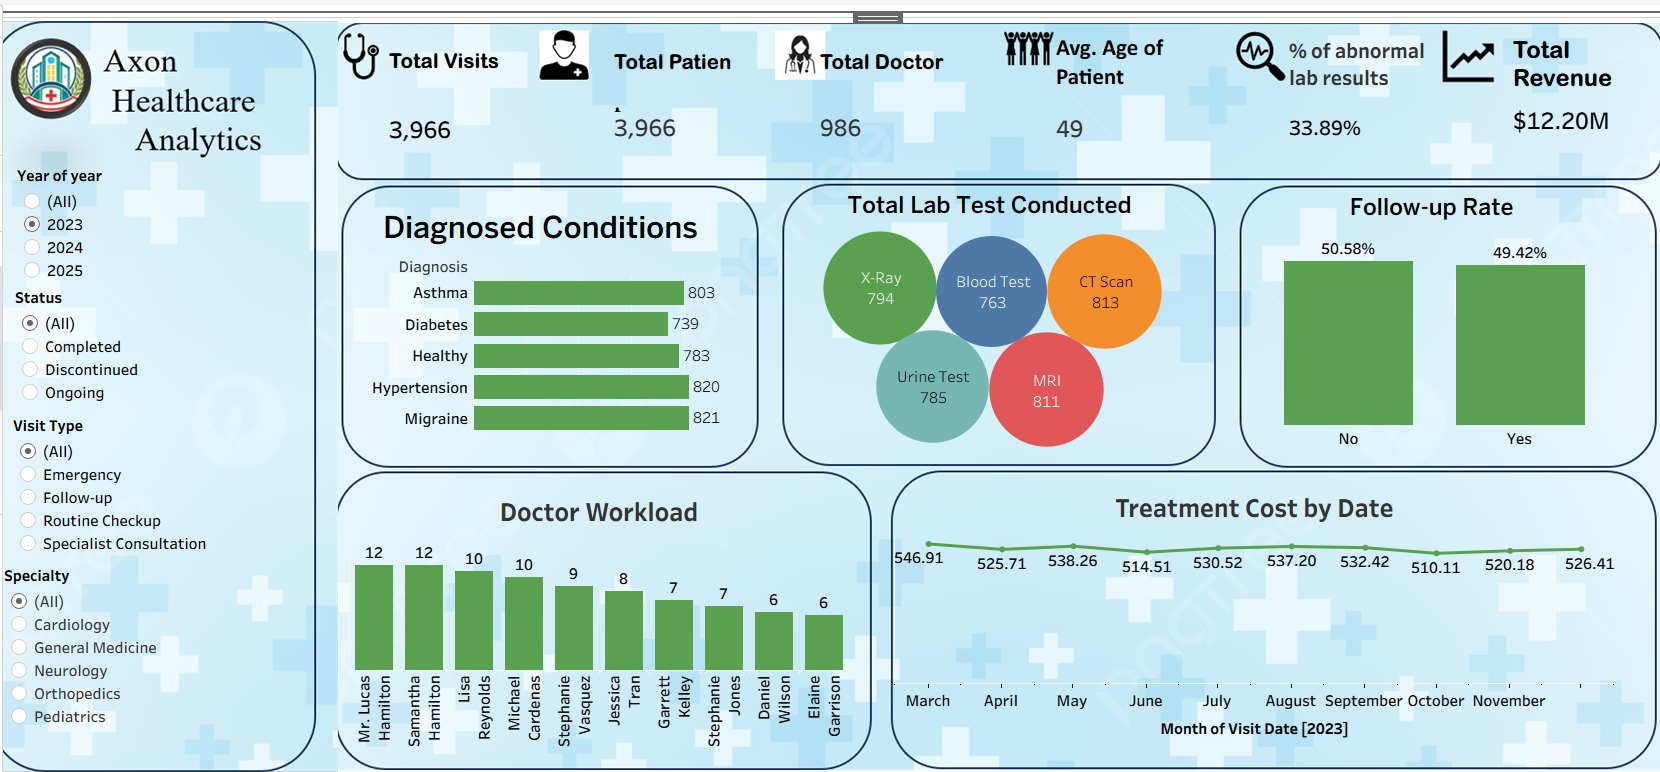

Layout of this report page (visuals, bound fields, positions):
{"tool":"tableau","page":{"name":"Dashboard 2","canvas":[1000,1000],"units":"permille","ordinal":0},"visuals":[{"type":"image","box":[4.4,10.3,991.3,979.5]},{"type":"image","param":"Image/Screenshot 2026-03-04 130648.png","box":[6.4,20.5,201.7,962.8]},{"type":"image","param":"Image/Screenshot 2026-03-04 131654.png","box":[206,23.1,732.6,957.7]},{"type":"worksheet","title":"Sheet 2","mark":"Automatic","box":[354.7,23.1,71.5,148.7]},{"type":"worksheet","title":"Sheet 4","mark":"Automatic","box":[595,30.8,84.2,161.5]},{"type":"worksheet","title":"Sheet 11","mark":"Automatic","box":[721.7,34.6,85.3,157.7]},{"type":"worksheet","title":"Sheet 5","mark":"Automatic","box":[843.5,34.6,104.9,135.9]},{"type":"worksheet","title":"Sheet 1","mark":"Automatic","box":[232.4,51.3,79.9,165.4]},{"type":"worksheet","title":"Sheet 3","mark":"Automatic","box":[466.9,52.6,95.3,157.7]},{"type":"filter","title":"Sheet 10","param":"[federated.1peiui60d31iv01h50fkc1fzq2ho].[yr:Calculation_0959092425551878:ok]","box":[32.6,205.1,141.8,153.8]},{"type":"worksheet","title":"Sheet 7","mark":"Circle","box":[459.2,233.3,207.1,333.3]},{"type":"worksheet","title":"Sheet 8","mark":"Automatic","rows":["Visit ID"],"cols":["Follow Up Required"],"box":[709.8,235.9,186.4,333.3]},{"type":"worksheet","title":"Sheet 6","mark":"Automatic","rows":["Diagnosis"],"cols":["Diagnosis Code"],"box":[215.2,255.1,207.6,294.9]},{"type":"filter","title":"Sheet 8","param":"[federated.1peiui60d31iv01h50fkc1fzq2ho].[none:Status:nk]","box":[31.5,361.5,131,153.8]},{"type":"filter","title":"Sheet 8","param":"[federated.1peiui60d31iv01h50fkc1fzq2ho].[none:Visit Type:nk]","box":[30.4,525.6,141.3,183.3]},{"type":"worksheet","title":"Sheet 10","mark":"Automatic","rows":["Treatment Cost"],"cols":["Visit Date"],"box":[509.3,616.7,391.7,333.3]},{"type":"worksheet","title":"Sheet 9","mark":"Automatic","cols":["Doctor Name"],"box":[212.8,621.8,271.6,333.3]},{"type":"filter","title":"Sheet 9","param":"[federated.1peiui60d31iv01h50fkc1fzq2ho].[none:Specialty:nk]","box":[25.4,718,157.8,212.8]}]}

Visuals, with their boxes on the dashboard's canvas, which has no fixed pixel size, in thousandths of its width and height (x1, y1, x2, y2). These are canvas units, not pixel positions in the 1660x772 screenshot, which may show the page scaled, cropped or inside an application window:
image: detection(4, 10, 996, 990)
image: detection(6, 20, 208, 983)
image: detection(206, 23, 939, 981)
"Sheet 2" worksheet: detection(355, 23, 426, 172)
"Sheet 4" worksheet: detection(595, 31, 679, 192)
"Sheet 11" worksheet: detection(722, 35, 807, 192)
"Sheet 5" worksheet: detection(844, 35, 948, 170)
"Sheet 1" worksheet: detection(232, 51, 312, 217)
"Sheet 3" worksheet: detection(467, 53, 562, 210)
"Sheet 10" filter: detection(33, 205, 174, 359)
"Sheet 7" worksheet (Circle marks): detection(459, 233, 666, 567)
"Sheet 8" worksheet: detection(710, 236, 896, 569)
"Sheet 6" worksheet: detection(215, 255, 423, 550)
"Sheet 8" filter: detection(32, 362, 162, 515)
"Sheet 8" filter: detection(30, 526, 172, 709)
"Sheet 10" worksheet: detection(509, 617, 901, 950)
"Sheet 9" worksheet: detection(213, 622, 484, 955)
"Sheet 9" filter: detection(25, 718, 183, 931)
